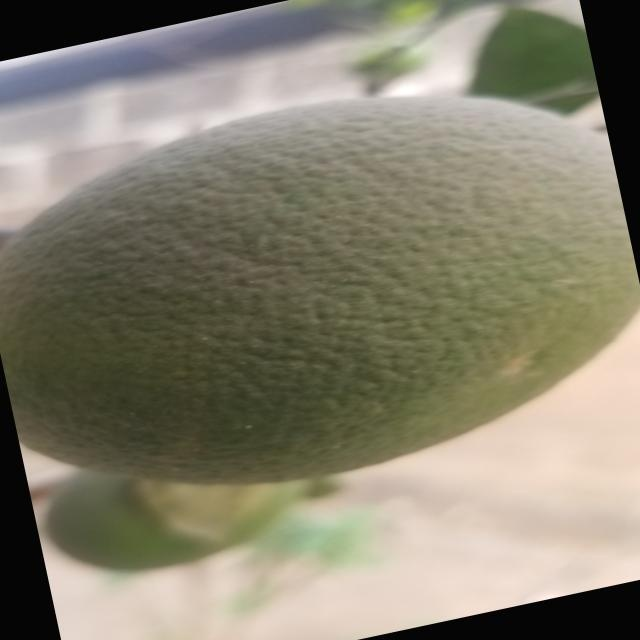agrume: (0, 58, 640, 534)
